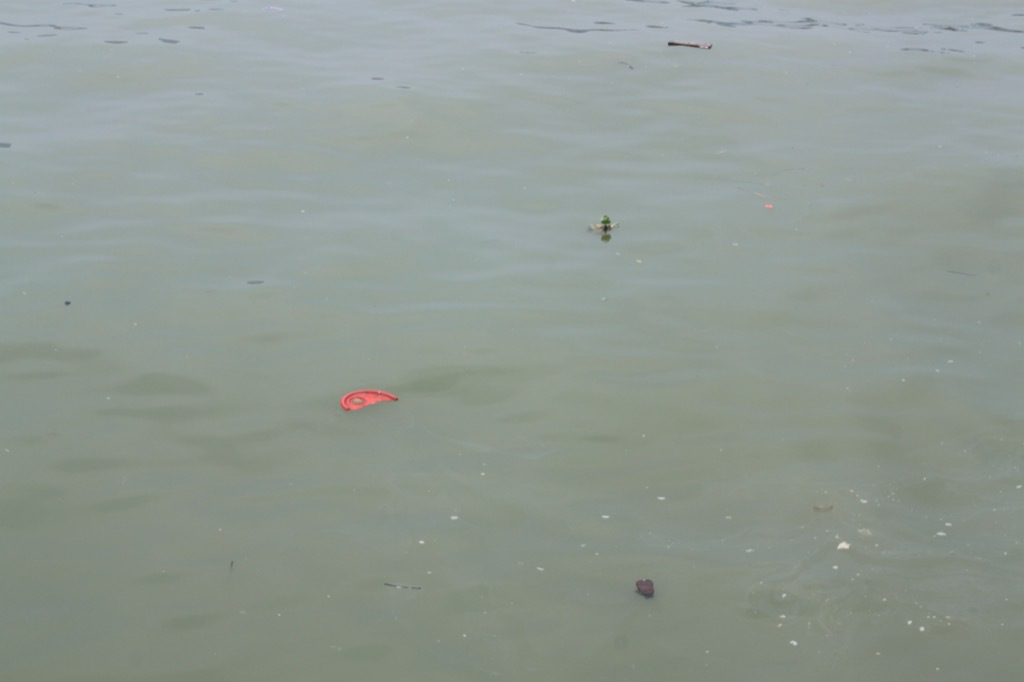organic: (663, 29, 723, 60), (373, 572, 435, 600), (583, 210, 627, 248), (218, 552, 247, 594), (55, 293, 79, 313)
plastic: (326, 377, 413, 426), (625, 561, 667, 610), (749, 187, 792, 227)
